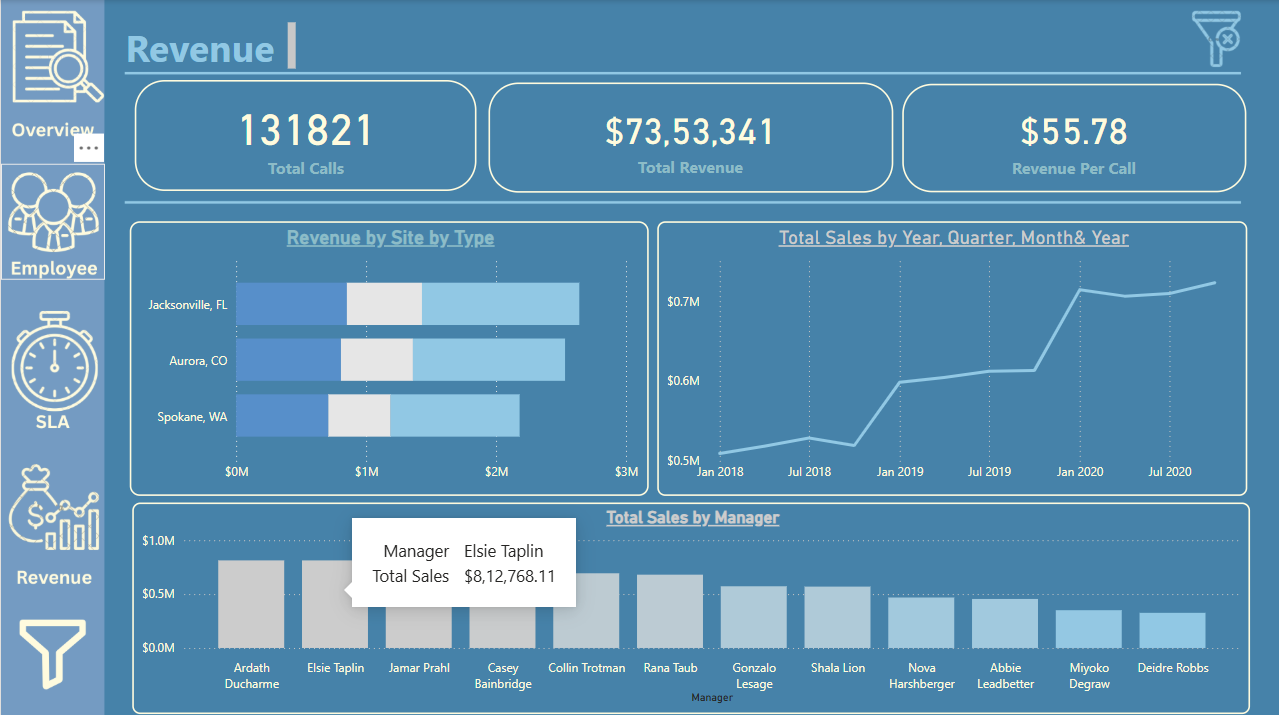

Layout of this report page (visuals, bound fields, positions):
{"tool":"powerbi","page":{"name":"Revenue","canvas":[1280,720],"ordinal":3},"visuals":[{"type":"pageNavigator","box":[0,8.5,103,130.8],"z":0},{"type":"pageNavigator","box":[0,164,103.5,116.3],"z":1000},{"type":"pageNavigator","box":[0,306.1,103.5,128],"z":2000},{"type":"pageNavigator","box":[11.1,611.1,82.4,85.7],"z":3000},{"type":"pageNavigator","box":[21.1,621.1,82.4,85.7],"z":4000},{"type":"pageNavigator","box":[10.9,611.7,82.4,86],"z":5000},{"type":"textbox","box":[106.6,17,193.8,58.1],"z":6000},{"type":"card","fields":{"Values":["Created_measures.Measure"]},"box":[134.4,79.9,342.8,111.4],"z":7000},{"type":"card","fields":{"Values":["Created_measures.TotalSales"]},"box":[488.1,82.4,405.8,110.2],"z":8000},{"type":"card","fields":{"Values":["Created_measures.RevenuePerCall"]},"box":[903.6,83.6,345.2,109],"z":9000},{"type":"barChart","title":"Revenue by Site by Type","fields":{"Category":["Lookup+Tables.Site"],"Series":["Cleaned_callData.Call Type"],"Y":["Created_measures.TotalSales"]},"box":[128.4,221.7,519.6,274.9],"z":10000},{"type":"lineChart","title":"Total Sales by Year, Quarter, Month& Year","fields":{"Y":["Created_measures.TotalSales"],"Category":["Cleaned_callData.CallDate.Variation.Date Hierarchy.Year","Cleaned_callData.CallDate.Variation.Date Hierarchy.Quarter","Cleaned_callData.CallDate.Variation.Date Hierarchy.Month","Cleaned_callData.CallDate.Variation.Date Hierarchy.Day"]},"box":[657.7,221.7,591.1,274.9],"z":11000},{"type":"columnChart","fields":{"Y":["Created_measures.TotalSales"],"Category":["Lookup+Tables.ManagerName"]},"box":[132,503,1120.4,212],"z":12000},{"type":"actionButton","box":[1184,6,65.1,65.1],"z":18000}]}

Visuals, with their boxes in screenshot pixels (x1, y1, x2, y2), scaled from the page's 1280x720 canvas onto the 1279x715 screenshot:
pageNavigator: {"x1": 0, "y1": 8, "x2": 103, "y2": 138}
pageNavigator: {"x1": 0, "y1": 163, "x2": 103, "y2": 278}
pageNavigator: {"x1": 0, "y1": 304, "x2": 103, "y2": 431}
pageNavigator: {"x1": 11, "y1": 607, "x2": 93, "y2": 692}
pageNavigator: {"x1": 21, "y1": 617, "x2": 103, "y2": 702}
pageNavigator: {"x1": 11, "y1": 607, "x2": 93, "y2": 693}
textbox: {"x1": 107, "y1": 17, "x2": 300, "y2": 75}
card - Created_measures.Measure: {"x1": 134, "y1": 79, "x2": 477, "y2": 190}
card - Created_measures.TotalSales: {"x1": 488, "y1": 82, "x2": 893, "y2": 191}
card - Created_measures.RevenuePerCall: {"x1": 903, "y1": 83, "x2": 1248, "y2": 191}
"Revenue by Site by Type" barChart: {"x1": 128, "y1": 220, "x2": 647, "y2": 493}
"Total Sales by Year, Quarter, Month& Year" lineChart: {"x1": 657, "y1": 220, "x2": 1248, "y2": 493}
columnChart - Created_measures.TotalSales x Lookup+Tables.ManagerName: {"x1": 132, "y1": 500, "x2": 1251, "y2": 710}
actionButton: {"x1": 1183, "y1": 6, "x2": 1248, "y2": 71}
